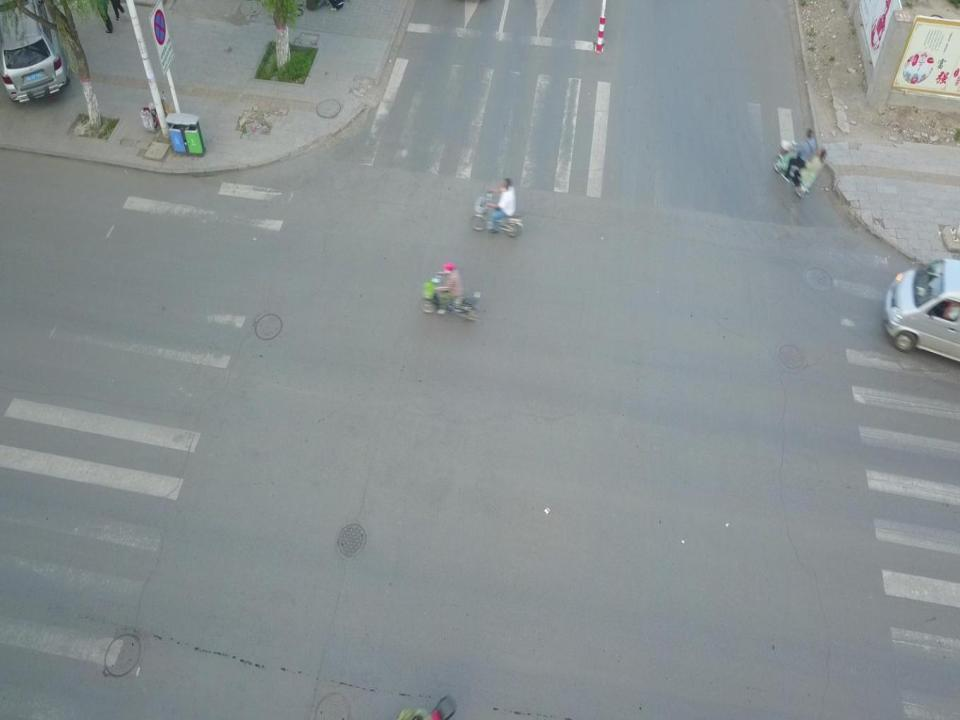car: (886, 257, 960, 365), (0, 1, 68, 106)
